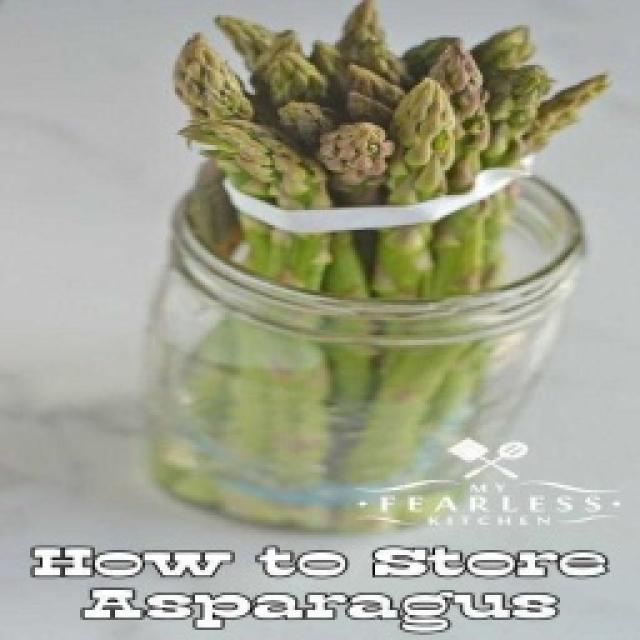Asparagus spear: (379, 80, 471, 185), (214, 126, 324, 201), (158, 46, 251, 112)
